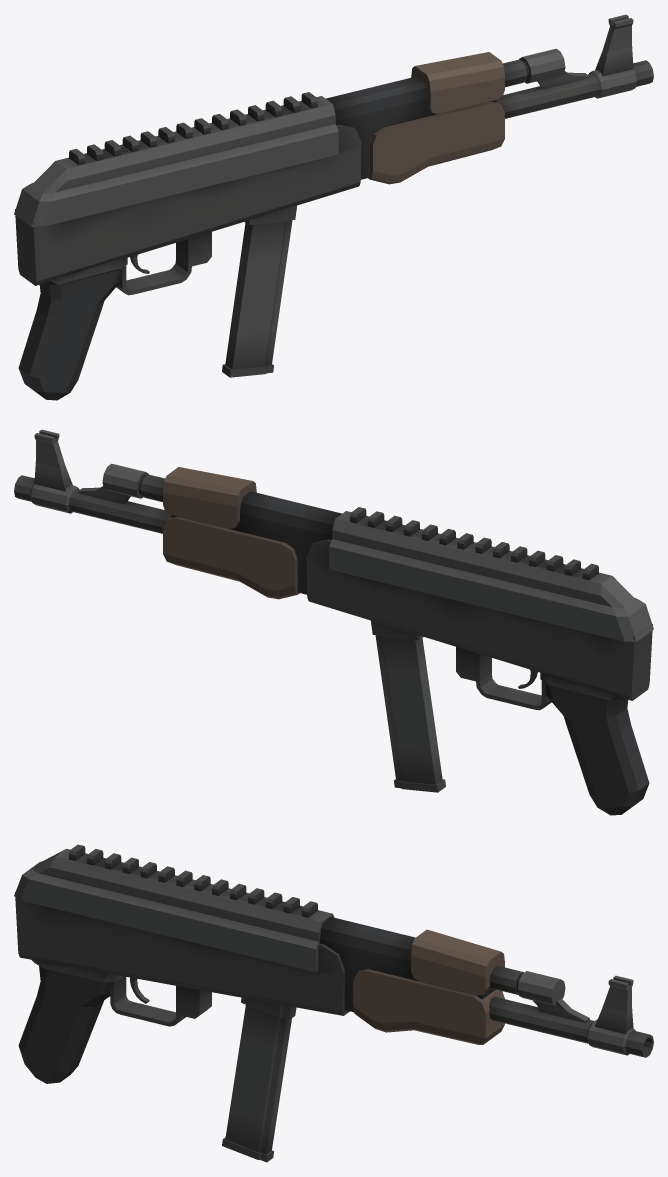
File: q-assaultrifle-1.glb
3 views of the same model, one above another, from view 1: azimuth 30°, elevation 25°; view 2: azimuth 150°, elevation 25°; view 3: azimuth 330°, elevation 25° (orthographic).
Visible parts, largest first — view 1: body; view 2: body; view 3: body.
Boxes of the visible parts, box(x1,y1,x2,y2) form: body: box(14, 14, 653, 400); body: box(14, 429, 653, 815); body: box(14, 844, 653, 1162).
Bounding box in the file's own units: 0.9 × 0.3652 × 0.0568.
